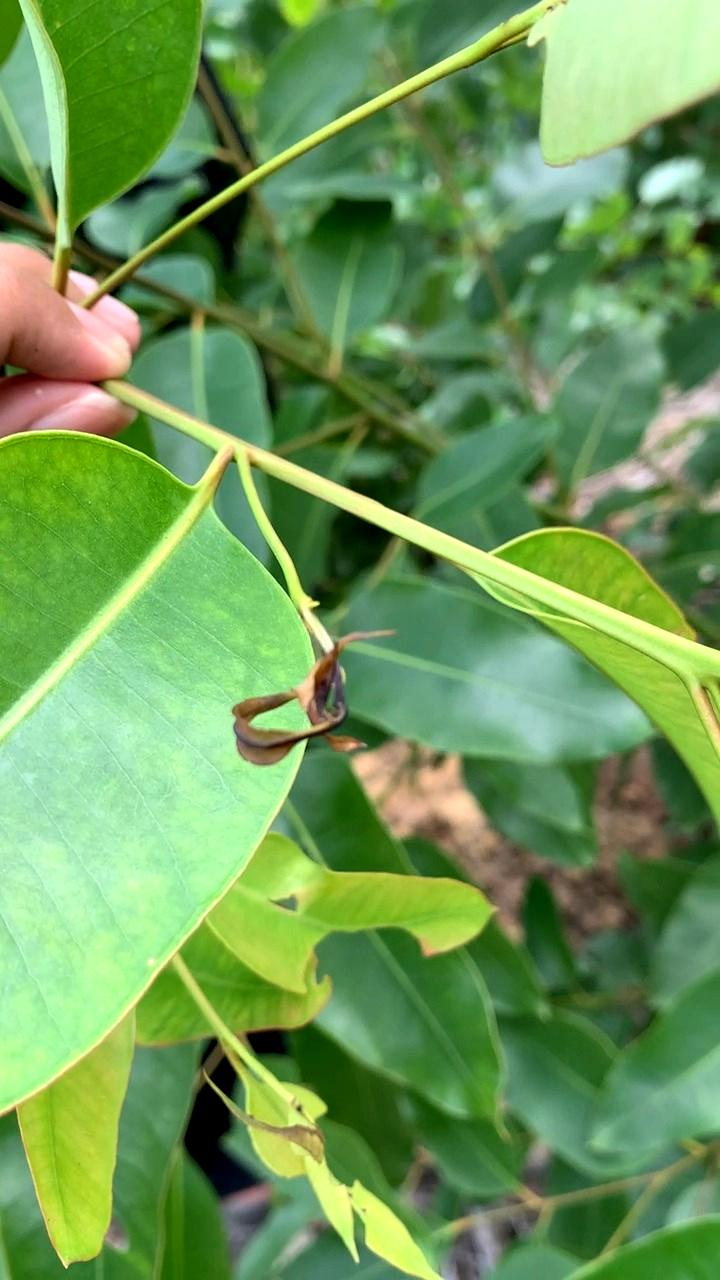Helopeltis-Withered Sprout: (225, 608, 396, 778)
